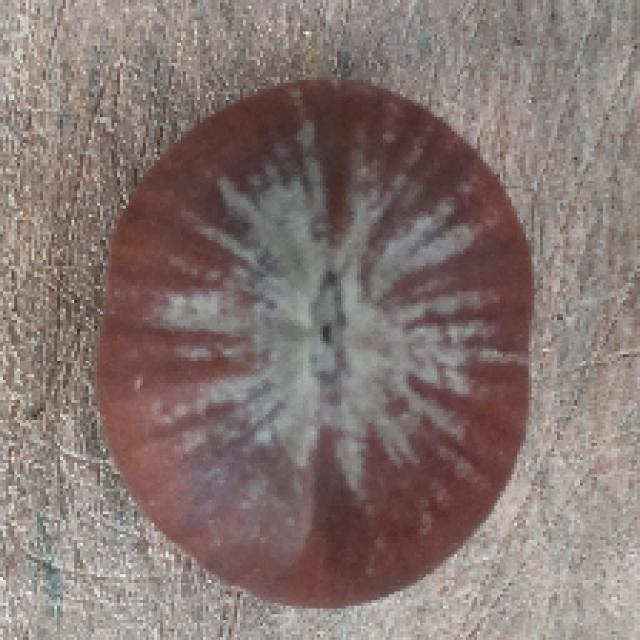damagedHazelnut: (92, 77, 540, 606)
